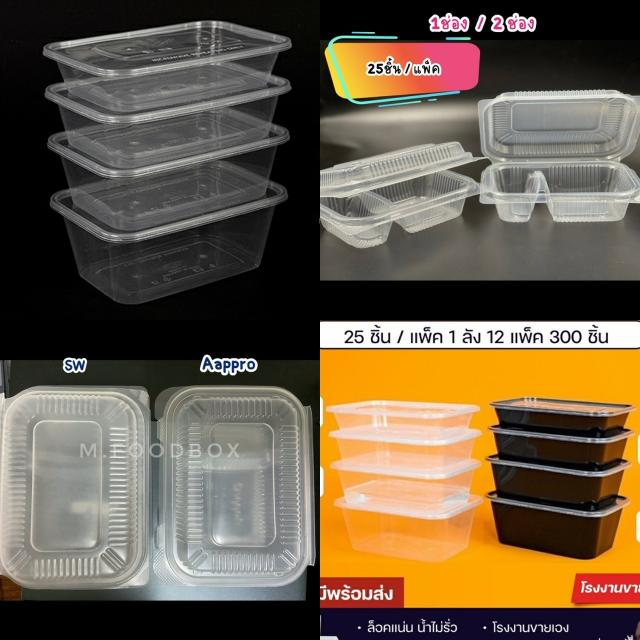Single-Use-Plastic: (152, 386, 314, 587), (0, 386, 150, 589), (50, 181, 288, 303), (48, 124, 289, 231), (328, 400, 481, 562), (488, 398, 636, 558), (45, 75, 291, 168), (42, 21, 291, 112), (478, 90, 640, 222), (320, 141, 480, 249)
